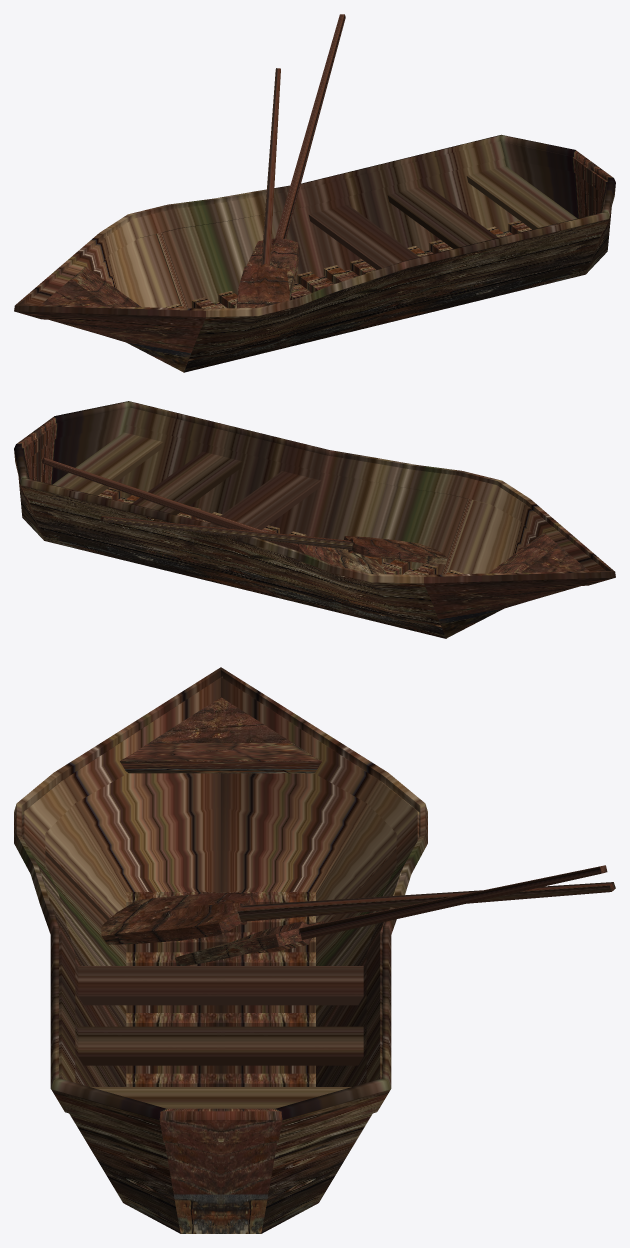
File: boat3.obj
3 renders of one model, top to bottom at view 1: azimuth 30°, elevation 25°; view 2: azimuth 150°, elevation 25°; view 3: azimuth 270°, elevation 25°, orthographic. The views are drawn at different scales.
Parts seen in each view (by area): view 1: boat; view 2: boat; view 3: boat.
Part boxes in pixels (left/top/right/bottom): boat: left=14, top=14, right=615, bottom=372; boat: left=14, top=401, right=615, bottom=638; boat: left=14, top=667, right=615, bottom=1233.
Bounding box in the file's own units: 1.64 × 0.4607 × 0.9375.
1 material, 1 textured.
